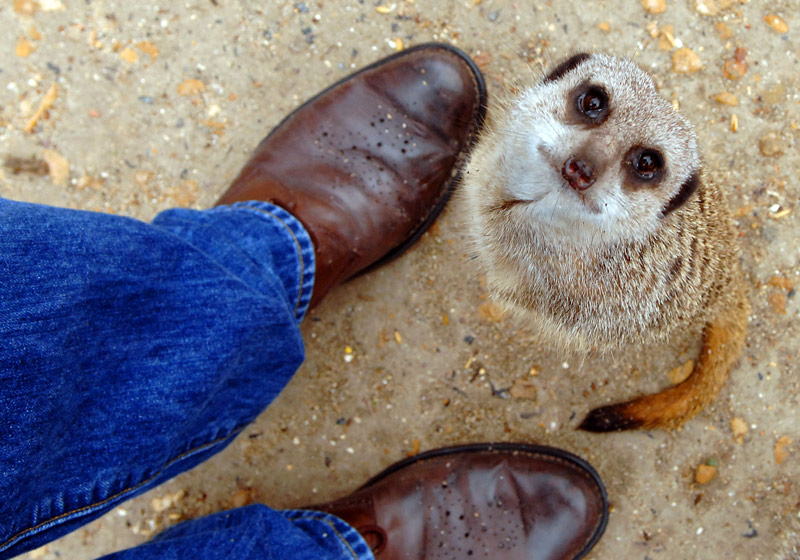meerkat: (473, 52, 769, 448)
